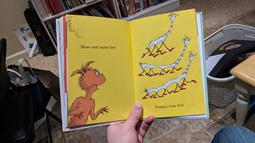text block: (77, 38, 118, 52), (152, 103, 186, 110)
